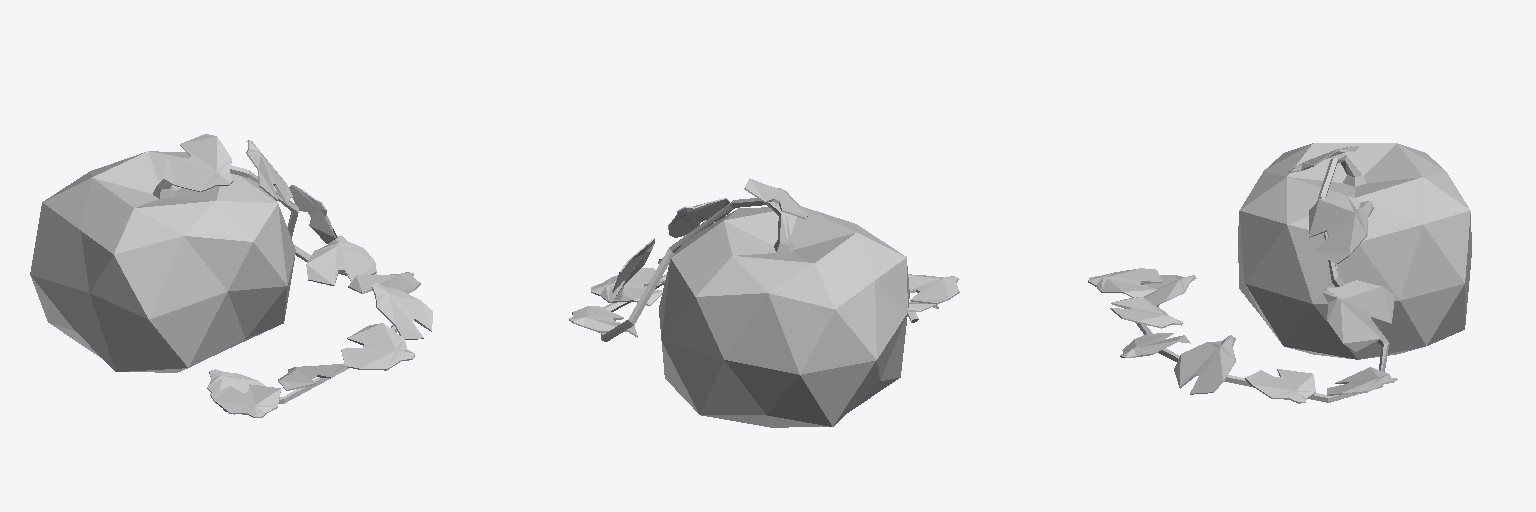
The model's file is pumpkinStage4.obj.
3 renders of one model, left to right at view 1: azimuth 30°, elevation 25°; view 2: azimuth 150°, elevation 25°; view 3: azimuth 270°, elevation 25°, orthographic.
Visible parts, largest first — view 1: Icosphere; view 2: Icosphere; view 3: Icosphere.
Part boxes in pixels (left/top/right/bottom): Icosphere: left=30, top=134, right=432, bottom=417; Icosphere: left=569, top=178, right=959, bottom=427; Icosphere: left=1088, top=143, right=1471, bottom=403.
Bounding box in the file's own units: 1.9 × 1.1 × 1.89.